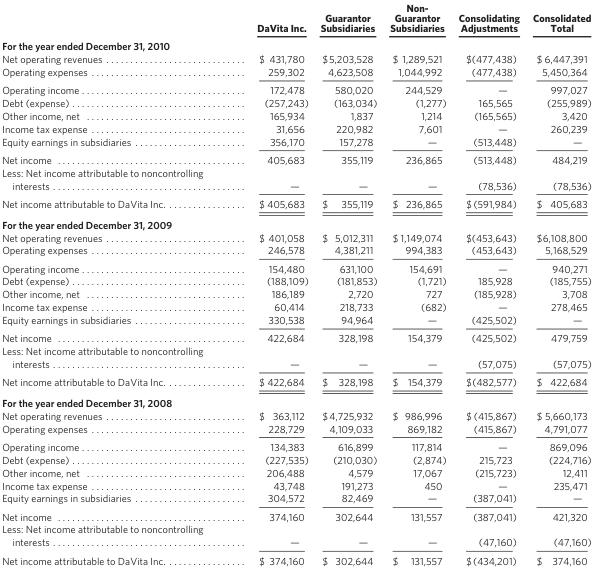table: (1, 0, 590, 565)
table column: (1, 0, 229, 565), (229, 0, 313, 565), (451, 0, 525, 565), (313, 0, 382, 565), (382, 0, 451, 565), (525, 0, 590, 565)
table column header: (1, 0, 590, 36)
table projected row header: (1, 213, 590, 230), (1, 391, 590, 408), (1, 36, 590, 51)
table row: (1, 0, 590, 36), (1, 165, 590, 194), (1, 343, 590, 372), (1, 522, 590, 550), (1, 194, 590, 213), (1, 372, 590, 391), (1, 213, 590, 230), (1, 391, 590, 408), (1, 64, 590, 80), (1, 134, 590, 150), (1, 258, 590, 274), (1, 312, 590, 328), (1, 436, 590, 452), (1, 506, 590, 522), (1, 36, 590, 51), (1, 80, 590, 95), (1, 150, 590, 165), (1, 243, 590, 258), (1, 328, 590, 343), (1, 421, 590, 436), (1, 491, 590, 506), (1, 550, 590, 565), (1, 51, 590, 64), (1, 95, 590, 108), (1, 108, 590, 121), (1, 121, 590, 134), (1, 230, 590, 243), (1, 274, 590, 287), (1, 299, 590, 312), (1, 408, 590, 421), (1, 452, 590, 465), (1, 465, 590, 478), (1, 478, 590, 491), (1, 287, 590, 299)
